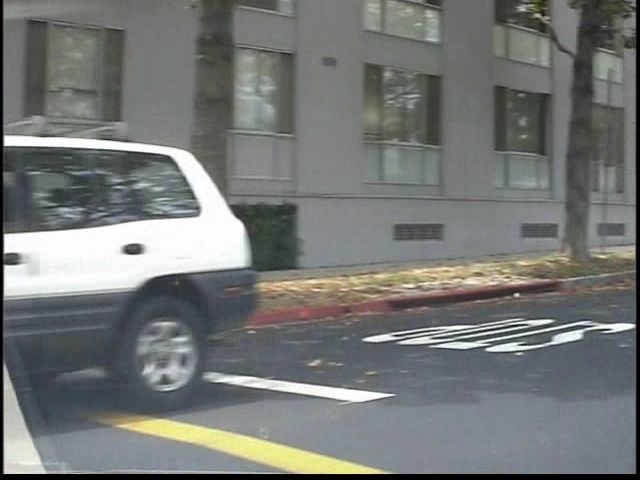person: (0, 161, 58, 243)
